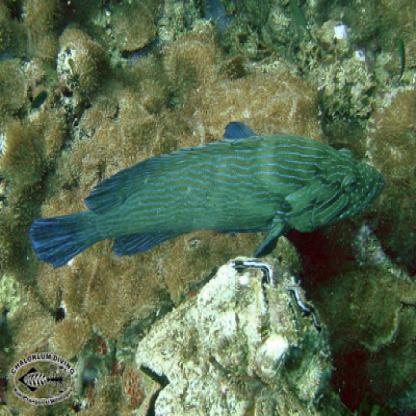grouper: (28, 115, 388, 274)
